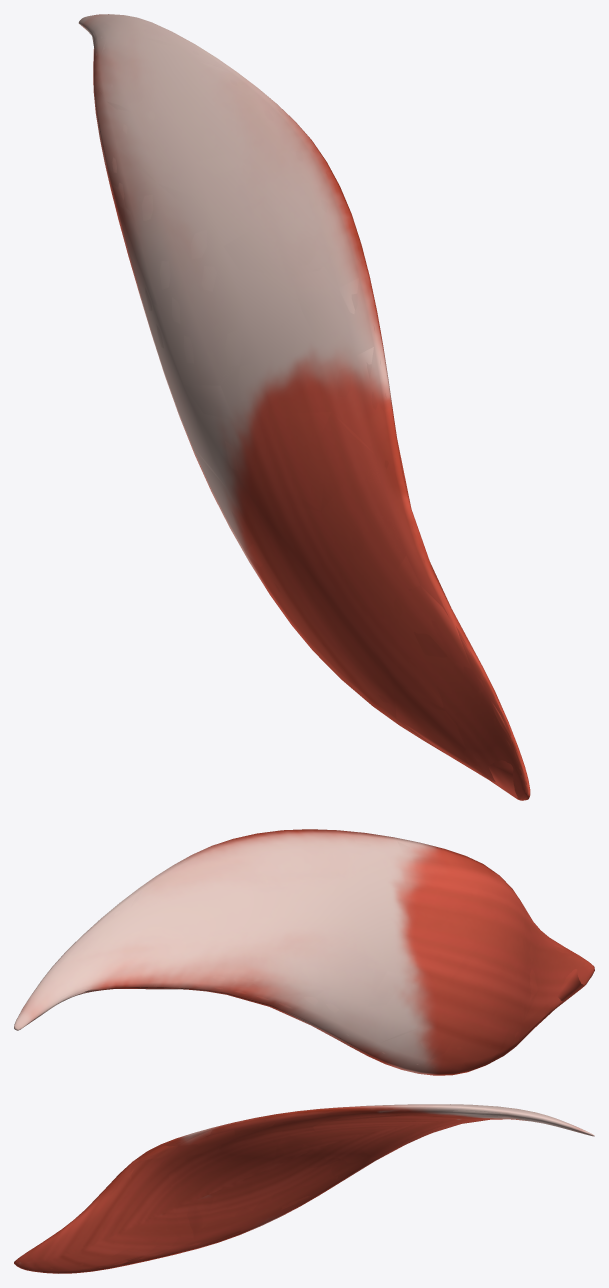
Rendered from R Latissimus Dorsi.fbx.
The picture shows the model from 3 angles, top to bottom: view 1: azimuth 30°, elevation 25°; view 2: azimuth 150°, elevation 25°; view 3: azimuth 270°, elevation 25°; orthographic projection. The views are drawn at different scales.
Parts seen in each view (by area): view 1: R Latissimus Dorsi, R Latissimus Dorsi low, R Latissimus Dorsi high; view 2: R Latissimus Dorsi, R Latissimus Dorsi low, R Latissimus Dorsi high; view 3: R Latissimus Dorsi, R Latissimus Dorsi high, R Latissimus Dorsi low.
Part boxes in pixels (x1,y1,x2,y2): R Latissimus Dorsi: [78, 14, 530, 800]; R Latissimus Dorsi low: [81, 25, 526, 800]; R Latissimus Dorsi high: [81, 16, 528, 799]; R Latissimus Dorsi: [14, 829, 594, 1075]; R Latissimus Dorsi low: [26, 834, 586, 1071]; R Latissimus Dorsi high: [19, 831, 590, 1067]; R Latissimus Dorsi: [14, 1104, 594, 1273]; R Latissimus Dorsi high: [14, 1104, 579, 1272]; R Latissimus Dorsi low: [20, 1105, 578, 1273].
Bounding box in the file's own units: 10.44 × 21.43 × 56.7.
1 material, 1 textured.
